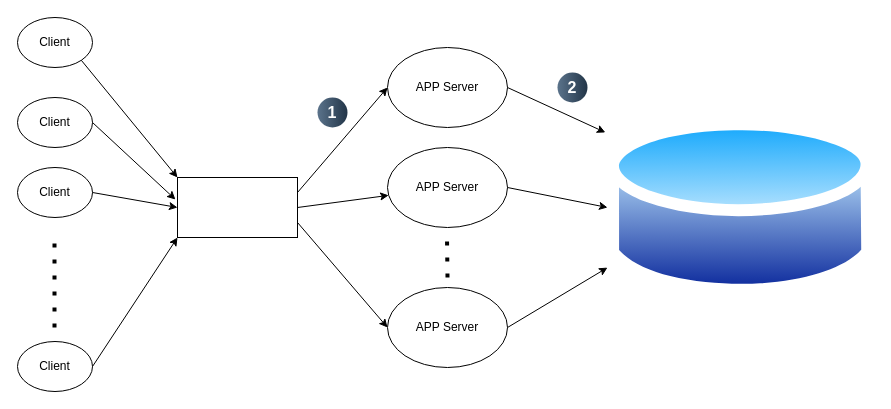
The diagram is 891 pixels wide and 409 high, and some of its shapes have lost their labels. The shapes that lost their labels are listed below. From the top down, each one's centre as x and y in pixels, then its label:
the point at 237,207: LB
the point at 740,207: RDB
